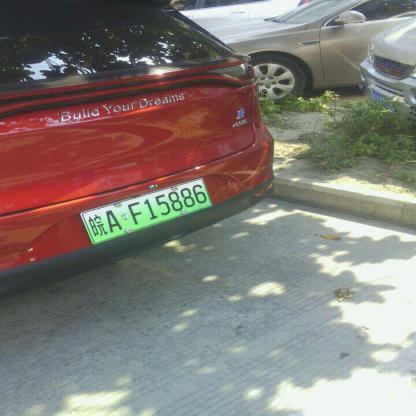lp: (81, 177, 213, 245)
